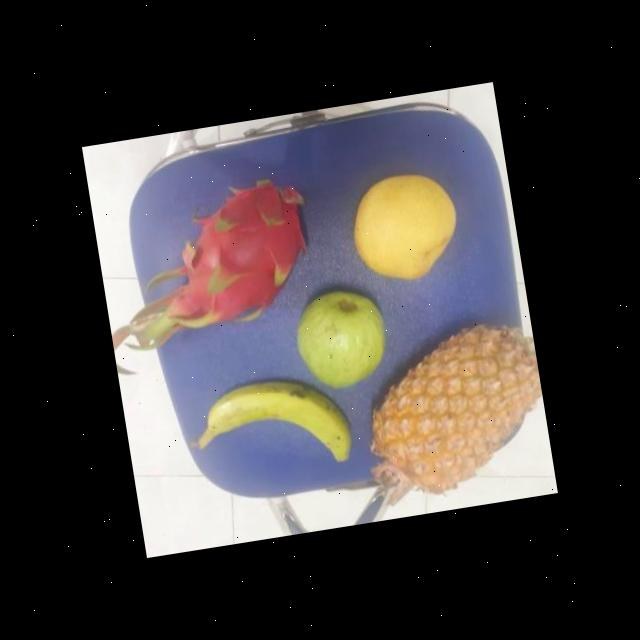banana: (199, 368, 363, 482)
guava: (288, 284, 398, 392)
pear: (346, 168, 471, 290)
pineapple: (362, 314, 554, 496)
pitaya: (156, 176, 328, 337)
